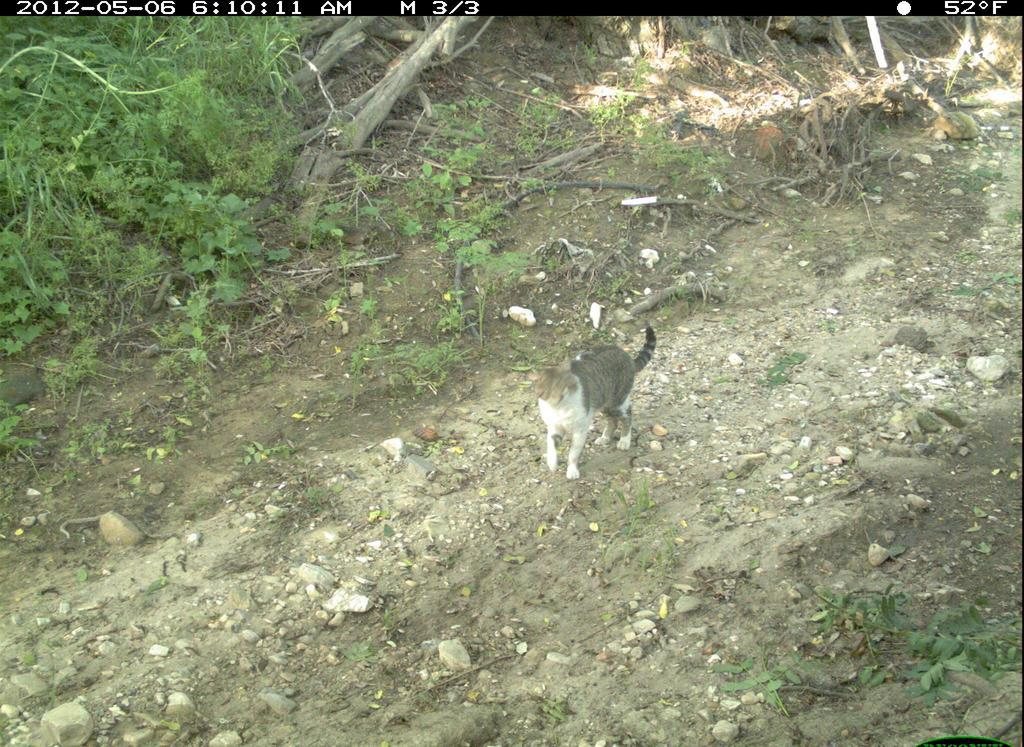cat: (528, 314, 665, 477)
